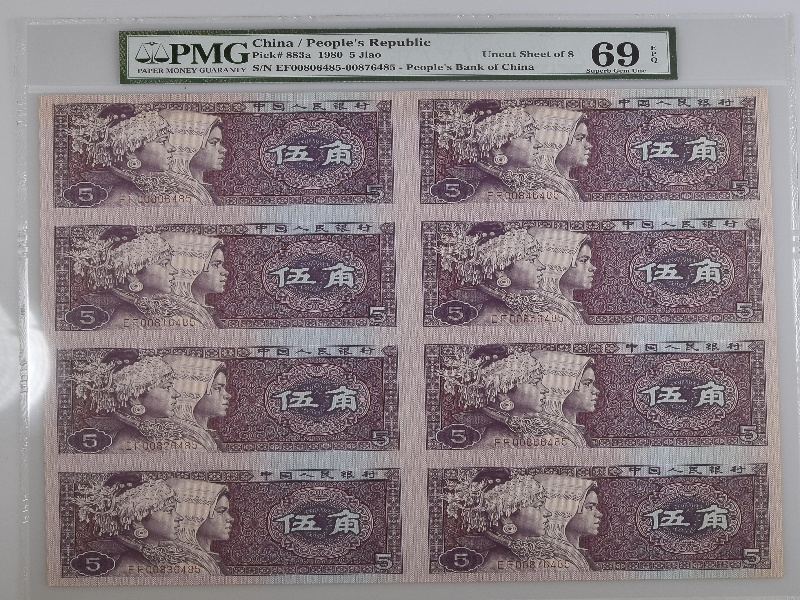papernote: (39, 88, 787, 582)
